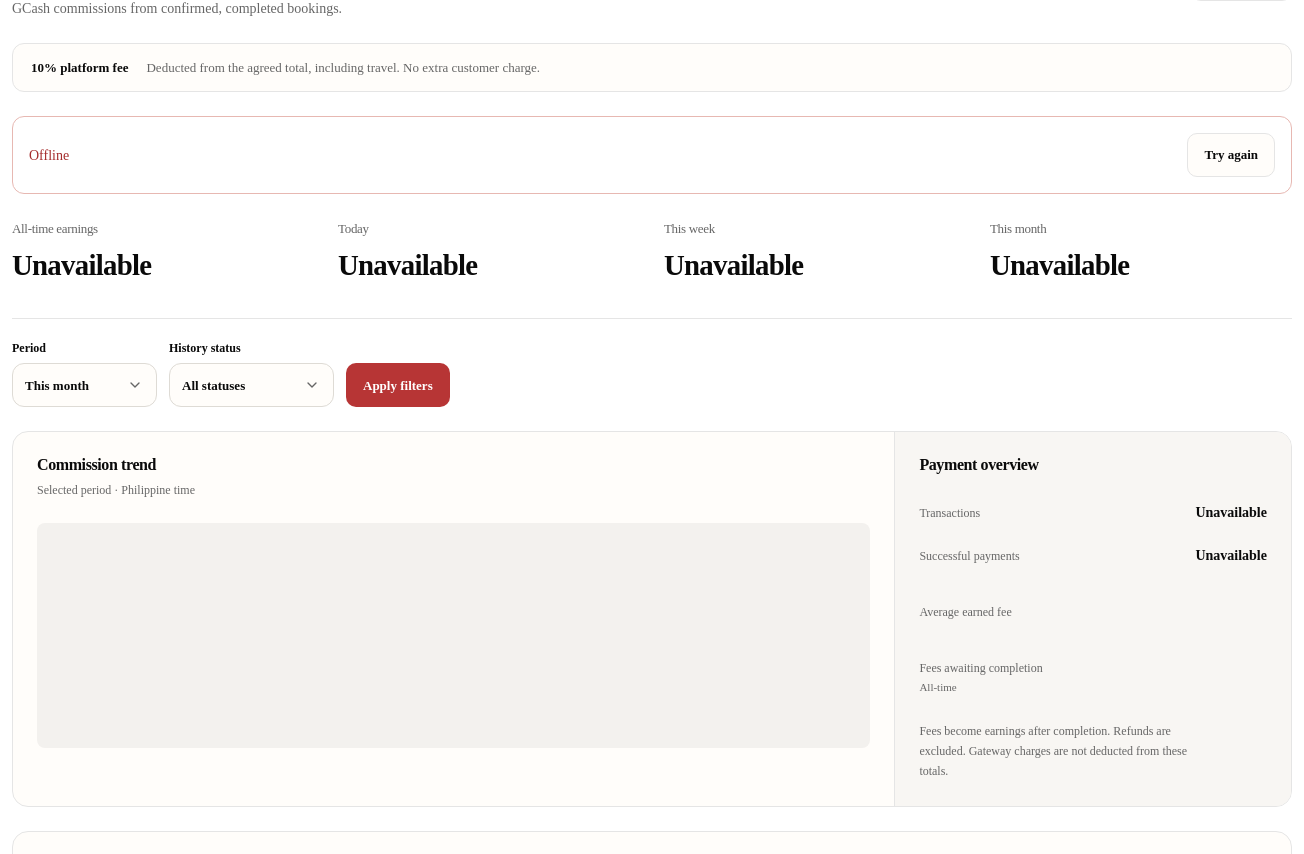
admin GCash earnings › exposes empty and recoverable error states without invented amounts
Expected: the message shows "Offline", [29,148,69,162]
Click the button "Try again". click: point(1231, 155)
box: [1187,133,1275,177]
(page scrolled)
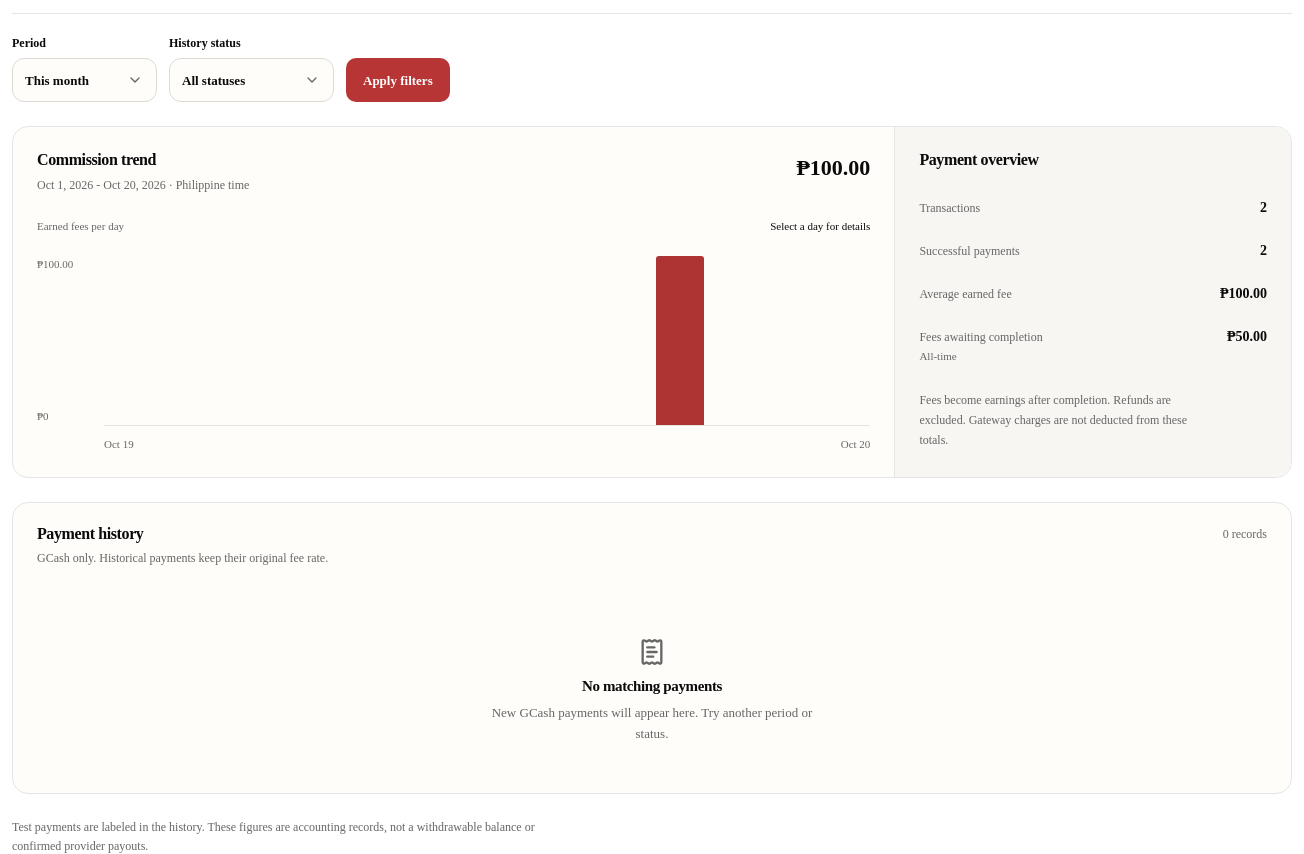
Expected: the heading "No matching payments" is shown, [582,678,722,694]
